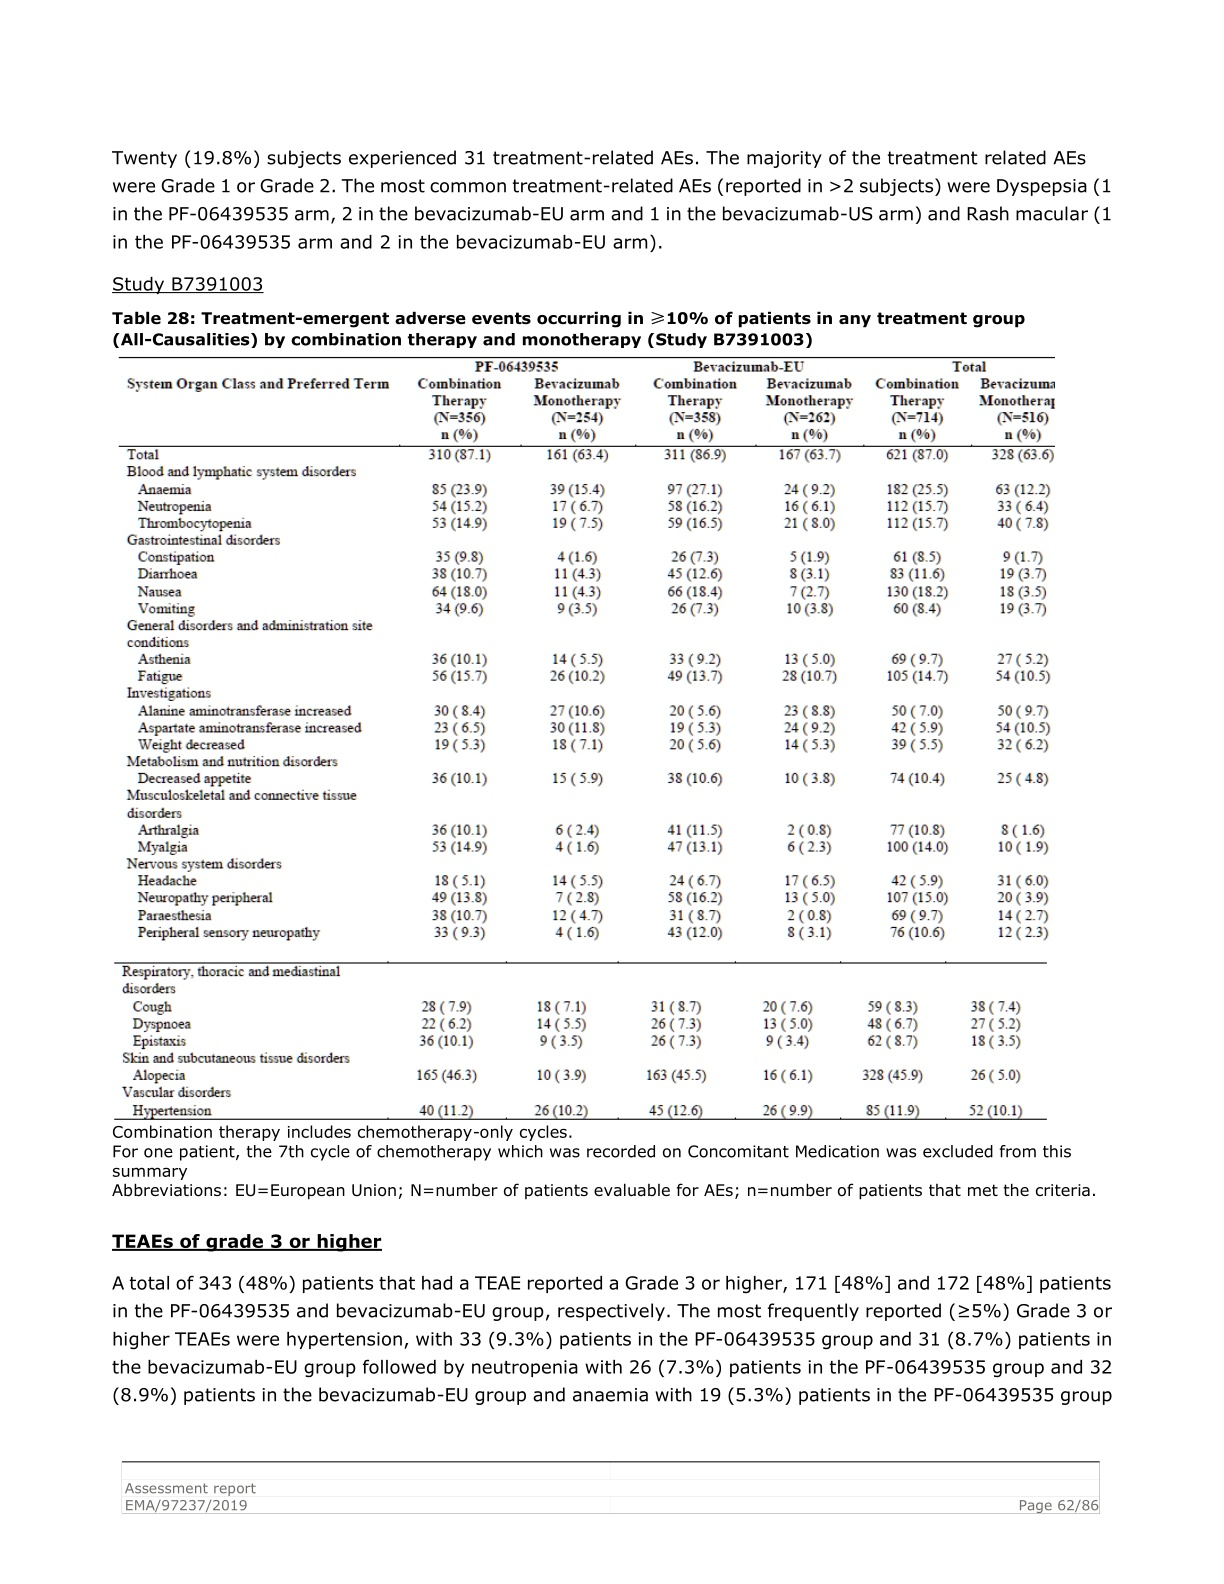partial_lined_merged_cells: (112, 354, 1057, 1122)
